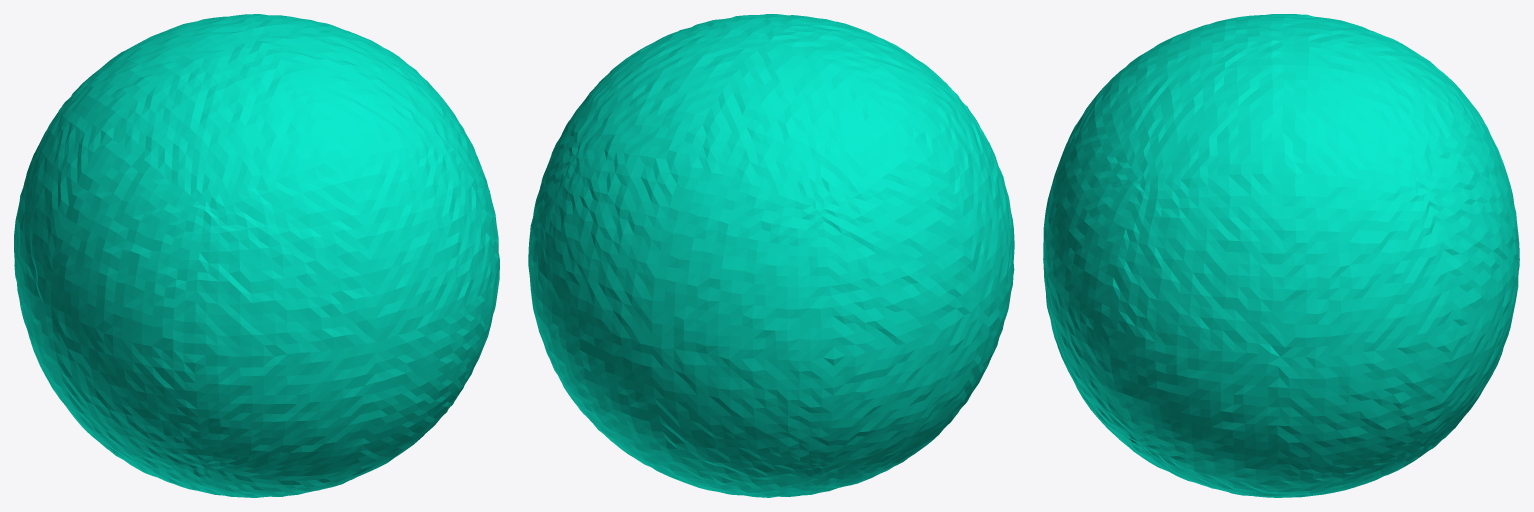
The model's file is SeaObject.fbx.
3 views of the same model, side by side, from view 1: azimuth 30°, elevation 25°; view 2: azimuth 150°, elevation 25°; view 3: azimuth 270°, elevation 25° (orthographic).
Visible parts, largest first — view 1: pCube1; view 2: pCube1; view 3: pCube1.
Boxes of the visible parts, <box> form: pCube1: <box>14,14,499,497</box>; pCube1: <box>528,14,1014,497</box>; pCube1: <box>1043,14,1519,497</box>.
Size of the model in its own units: 40.58 by 40.62 by 40.56.
